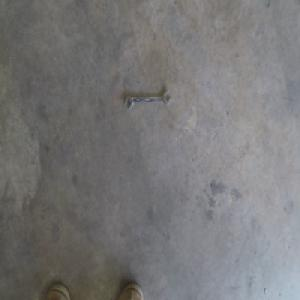Wrench: (125, 90, 171, 109)
